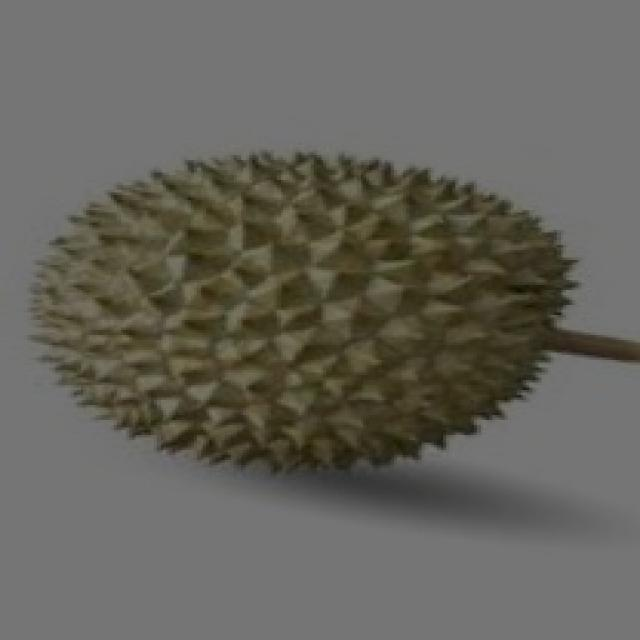fruit: (0, 110, 354, 545), (286, 120, 612, 528)
